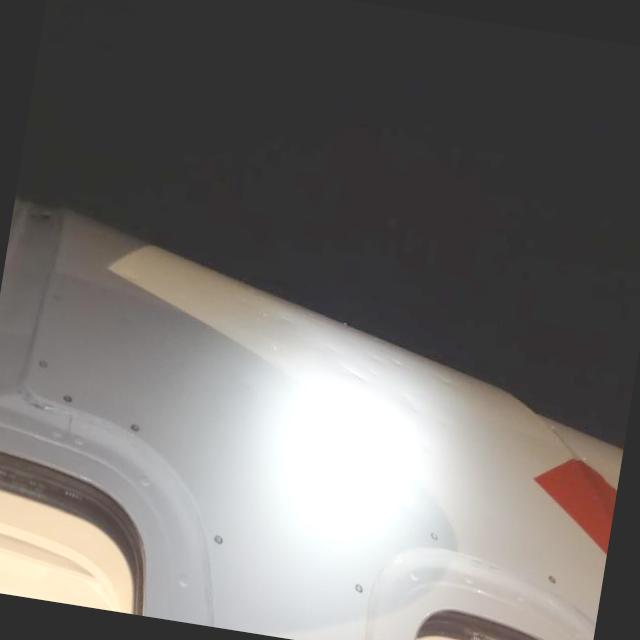dent: (360, 336, 410, 378), (392, 386, 432, 421), (428, 361, 463, 396), (336, 359, 380, 386), (306, 329, 342, 361), (412, 426, 443, 460), (432, 406, 460, 432), (269, 310, 297, 335)
